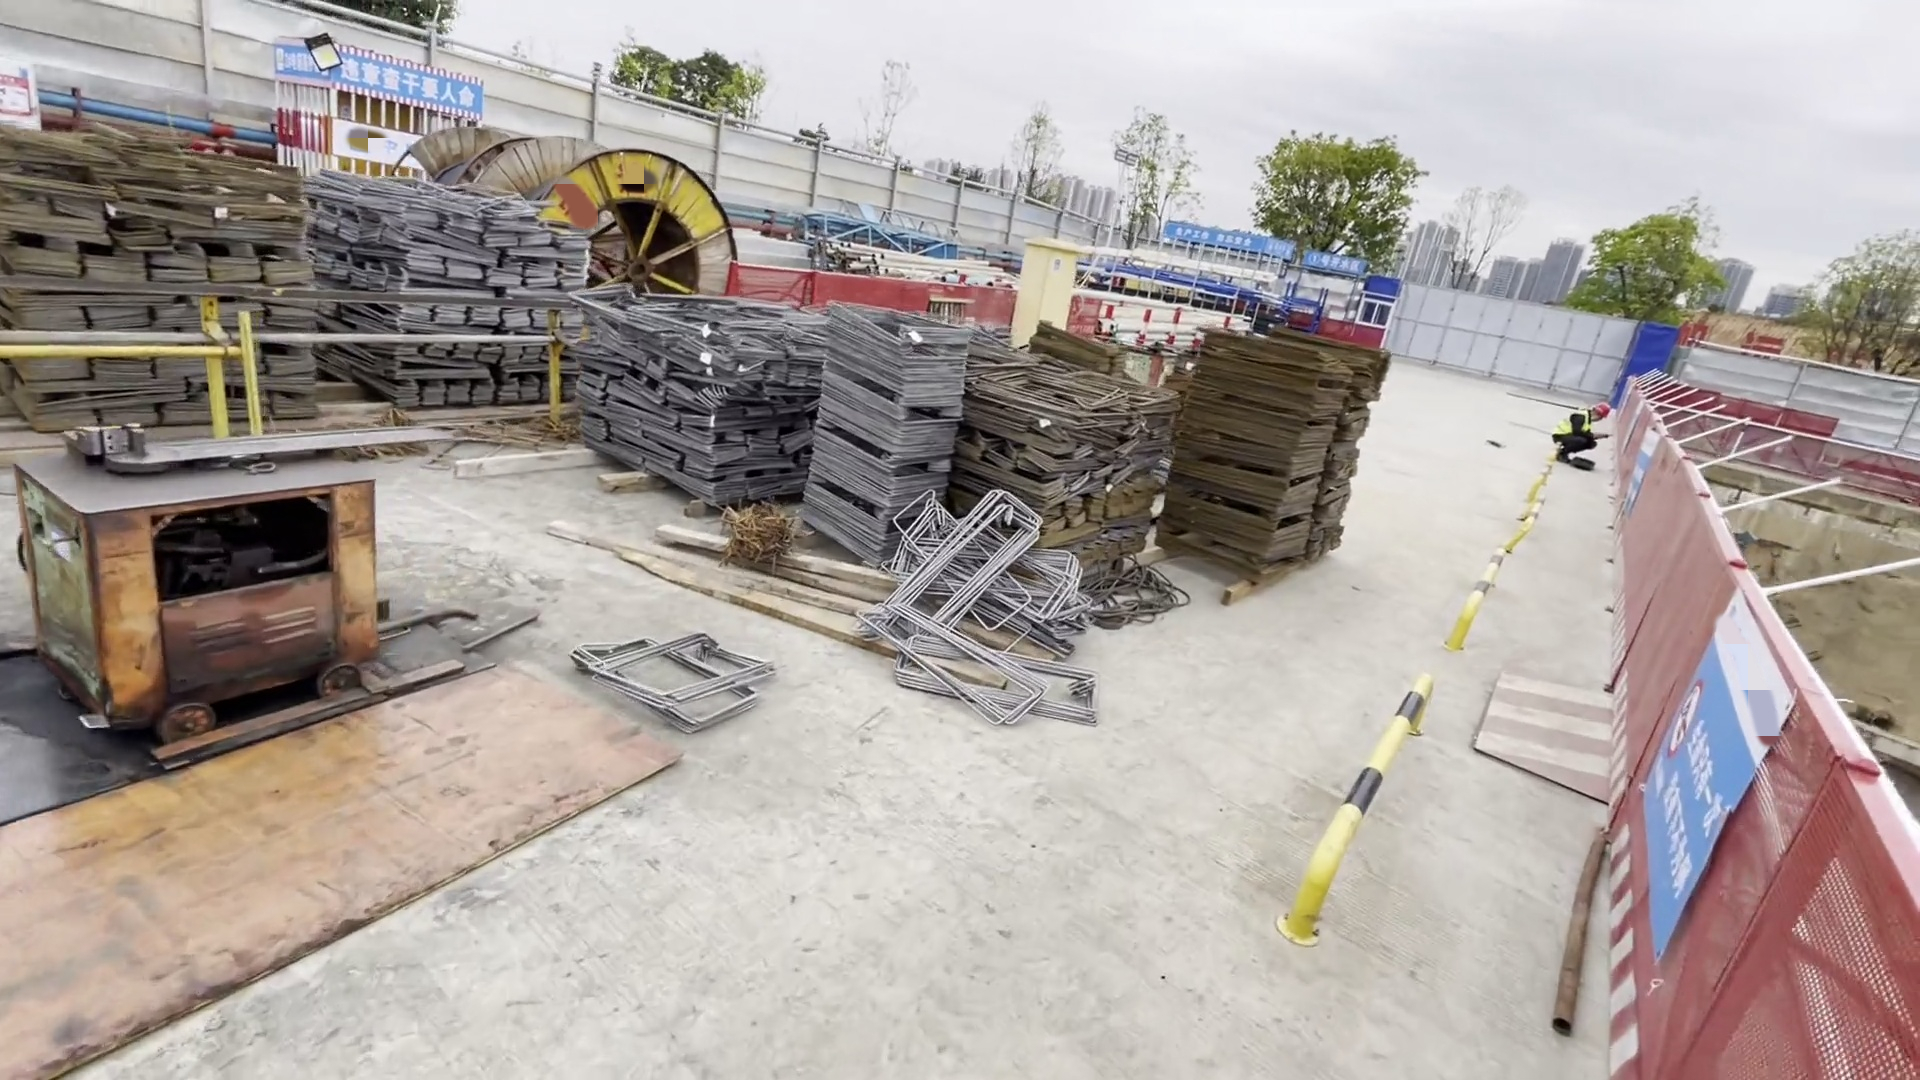ebox: (1003, 231, 1078, 349)
fence: (1612, 366, 1916, 1080), (721, 274, 998, 326)
helmet: (1593, 401, 1611, 418)
person: (1549, 398, 1608, 472)
slogan: (1178, 226, 1252, 248)
vest: (1553, 408, 1588, 436)
